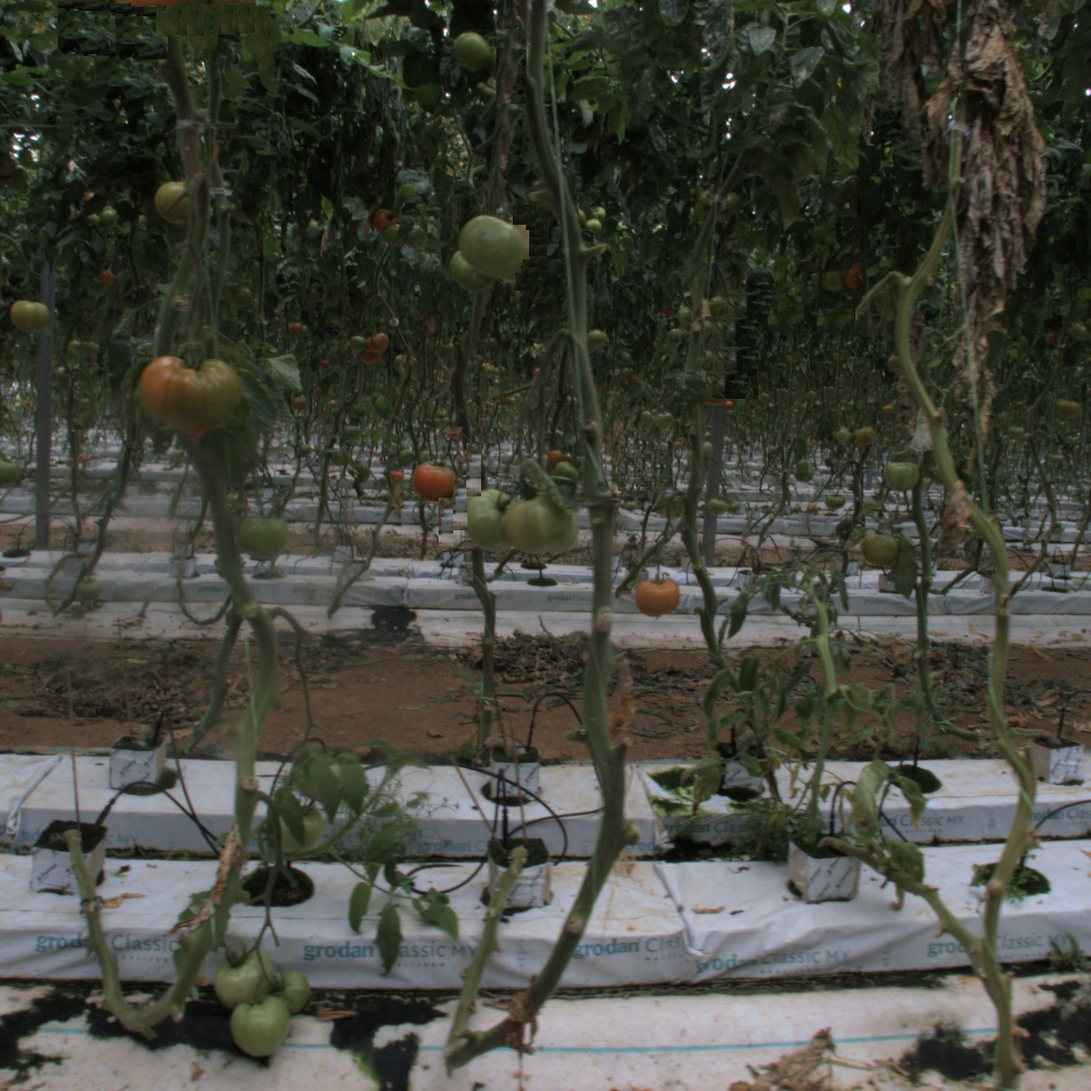fully-ripe: (634, 573, 679, 618), (413, 458, 458, 502)
semi-ripe: (139, 340, 243, 445), (151, 178, 199, 226)
unripe: (227, 992, 296, 1061), (458, 212, 526, 281), (213, 948, 279, 1014), (502, 490, 568, 556), (465, 489, 525, 549), (241, 515, 291, 565), (269, 969, 314, 1014), (452, 32, 494, 74), (9, 294, 51, 335), (882, 455, 920, 494), (861, 529, 899, 567)
